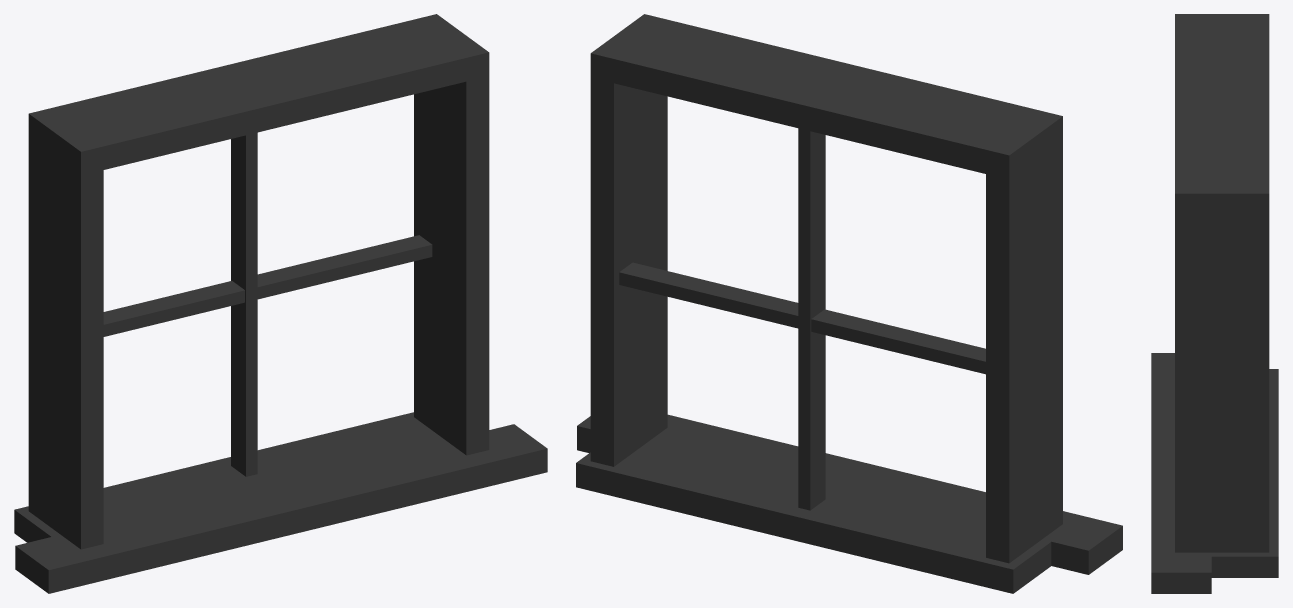
Rendered from Window2_04.fbx.
3 views of the same model, side by side, from view 1: azimuth 30°, elevation 25°; view 2: azimuth 150°, elevation 25°; view 3: azimuth 270°, elevation 25° (orthographic). The views are drawn at different scales.
Visible parts, largest first — view 1: Window2_04; view 2: Window2_04; view 3: Window2_04.
Part boxes in pixels (x1,y1,x2,y2): Window2_04: (14, 14, 547, 593); Window2_04: (576, 14, 1122, 593); Window2_04: (1151, 14, 1278, 593).
Bounding box in the file's own units: 110 × 88.81 × 27.
